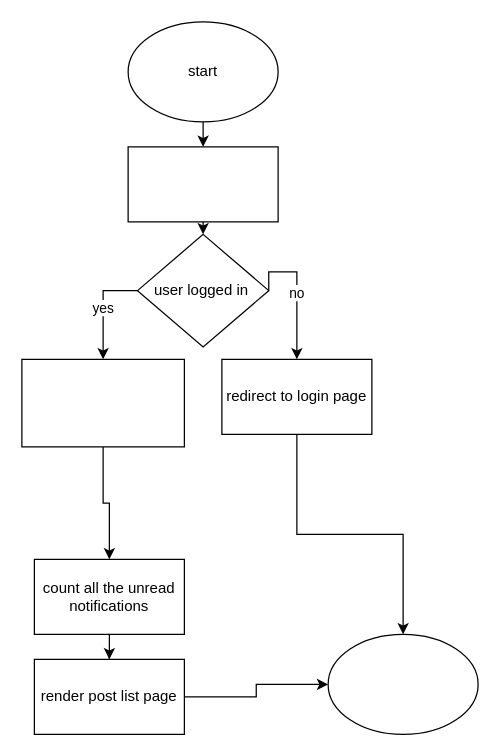
The diagram is 500 pixels wide and 756 high, and some of its shapes have lost their labels. The shapes that lost their labels are listed below. From the top down, each one's centre as x and y in pixels, then its label:
At point (202, 184): "recive request".
At point (102, 402): "fetch all posts".
At point (402, 683): "end".
